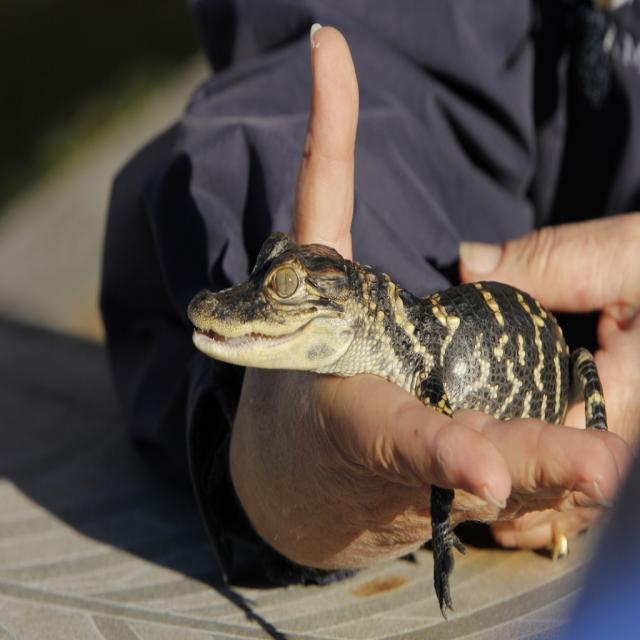crocodile: (194, 237, 576, 424)
